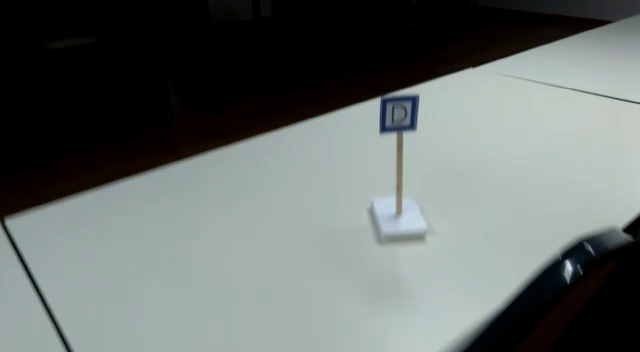durak: (379, 95, 417, 134)
